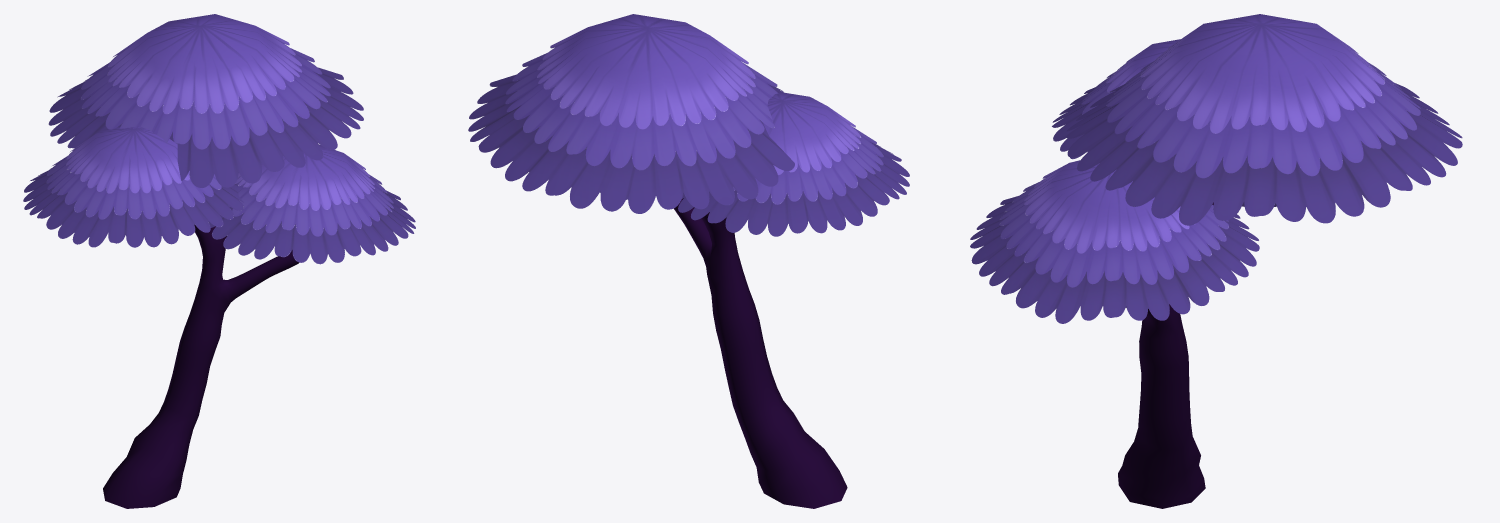
File: Tree02_2.fbx
The picture shows the model from 3 angles, left to right: view 1: azimuth 30°, elevation 25°; view 2: azimuth 150°, elevation 25°; view 3: azimuth 270°, elevation 25°; orthographic projection. The views are drawn at different scales.
Visible parts, largest first — view 1: Circle.194, Plane.177, Circle.196, Circle.195, Circle.185, Circle.189, Circle.183, Circle.187, Circle.184, Circle.188; view 2: Circle.194, Circle.196, Plane.177, Circle.195, Circle.185, Circle.183, Circle.184; view 3: Circle.196, Circle.194, Circle.195, Circle.189, Plane.177, Circle.188, Circle.187, Circle.183, Circle.185.
Part boxes in pixels (x1,y1,x2,y2): Circle.194: (107, 14, 302, 114); Plane.177: (103, 225, 299, 508); Circle.196: (48, 67, 363, 187); Circle.195: (80, 48, 330, 149); Circle.185: (23, 168, 243, 247); Circle.189: (194, 190, 415, 264); Circle.183: (66, 126, 189, 193); Circle.187: (235, 144, 374, 210); Circle.184: (46, 156, 221, 219); Circle.188: (228, 174, 393, 236); Circle.194: (537, 14, 755, 129); Circle.196: (468, 74, 794, 213); Plane.177: (674, 198, 847, 508); Circle.195: (505, 53, 778, 170); Circle.185: (678, 142, 909, 236); Circle.183: (762, 91, 861, 174); Circle.184: (733, 126, 883, 204); Circle.196: (1066, 81, 1462, 225); Circle.194: (1140, 14, 1385, 133); Circle.195: (1106, 59, 1420, 178); Circle.189: (970, 196, 1259, 323); Plane.177: (1118, 202, 1213, 508); Circle.188: (999, 182, 1228, 287); Circle.187: (1024, 160, 1195, 253); Circle.183: (1106, 39, 1180, 92); Circle.185: (1052, 86, 1098, 159).
Bounding box in the file's own units: 18.36 × 18.23 × 19.62.
Materials: 4 (3 with a texture image).
